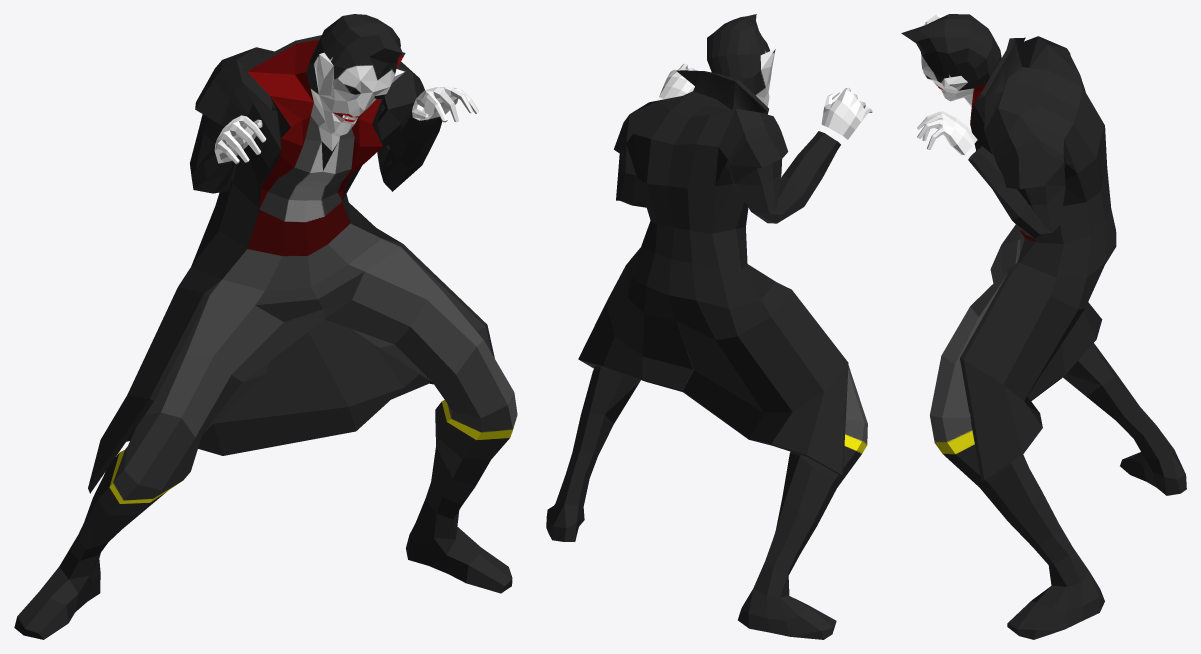
File: VampireAttack(52).obj
3 views of the same model, side by side, from view 1: azimuth 30°, elevation 25°; view 2: azimuth 150°, elevation 25°; view 3: azimuth 270°, elevation 25° (orthographic). The views are drawn at different scales.
Parts seen in each view (by area): view 1: Plane002; view 2: Plane002; view 3: Plane002.
Part boxes in pixels (x1,y1,x2,y2): Plane002: (14, 14, 517, 639); Plane002: (546, 14, 872, 639); Plane002: (901, 14, 1186, 639).
Bounding box in the file's own units: 189 × 272 × 130.
